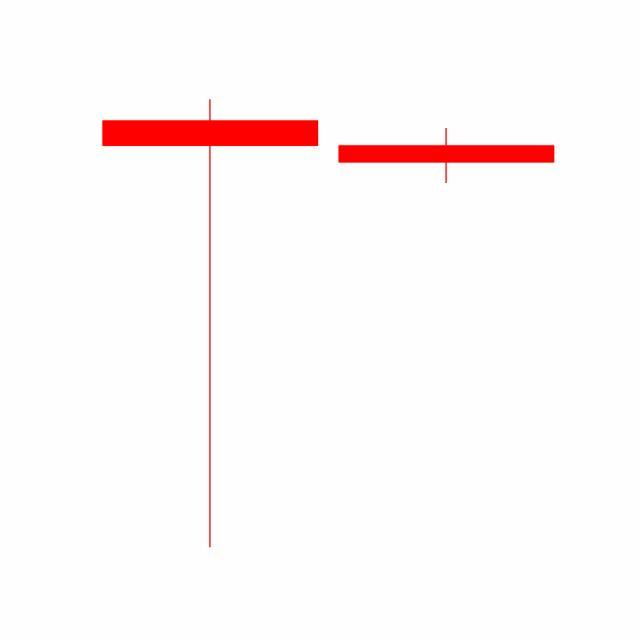Spinning Top: (328, 128, 566, 185)
